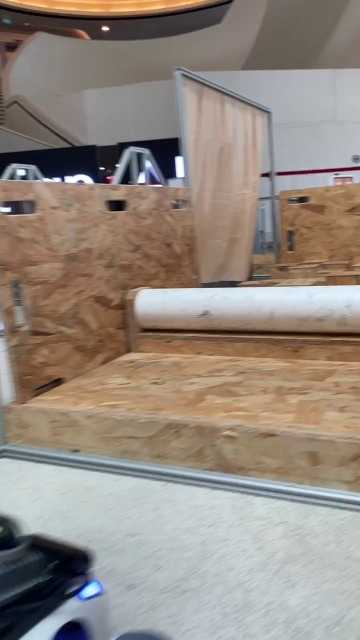curtain: (169, 64, 270, 288)
